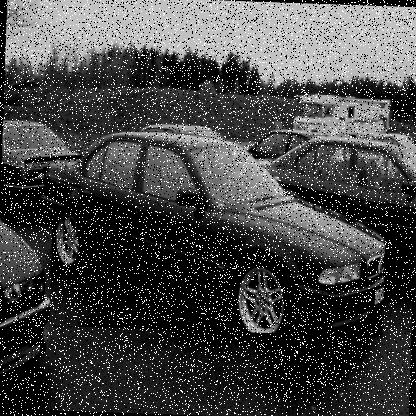Car: (32, 88, 390, 338), (251, 132, 415, 274), (0, 212, 54, 380), (230, 113, 369, 172), (0, 114, 83, 209), (330, 131, 415, 179)
